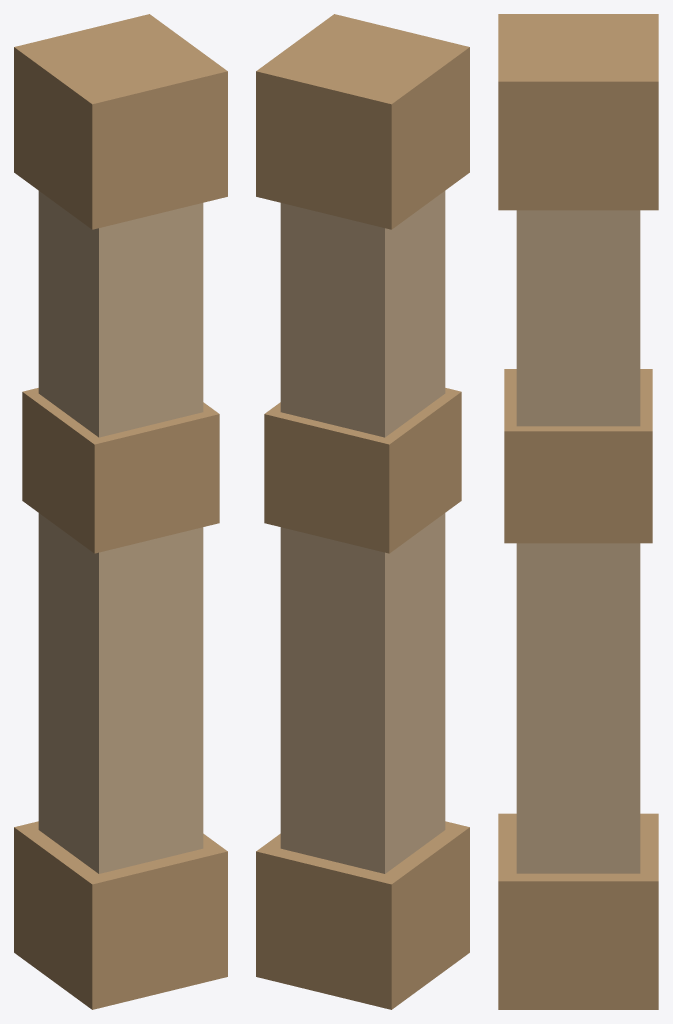
Rendered from Fence_02.fbx.
The picture shows the model from 3 angles, left to right: view 1: azimuth 30°, elevation 25°; view 2: azimuth 150°, elevation 25°; view 3: azimuth 270°, elevation 25°; orthographic projection. The views are drawn at different scales.
Visible parts, largest first — view 1: Object001; view 2: Object001; view 3: Object001.
Boxes of the visible parts, x1,y1,x2,y2 form: Object001: (14,14,227,1009); Object001: (256,14,469,1009); Object001: (498,14,658,1009).
Bounding box in the file's own units: 10.24 × 65.35 × 10.24.
1 material, 1 textured.
